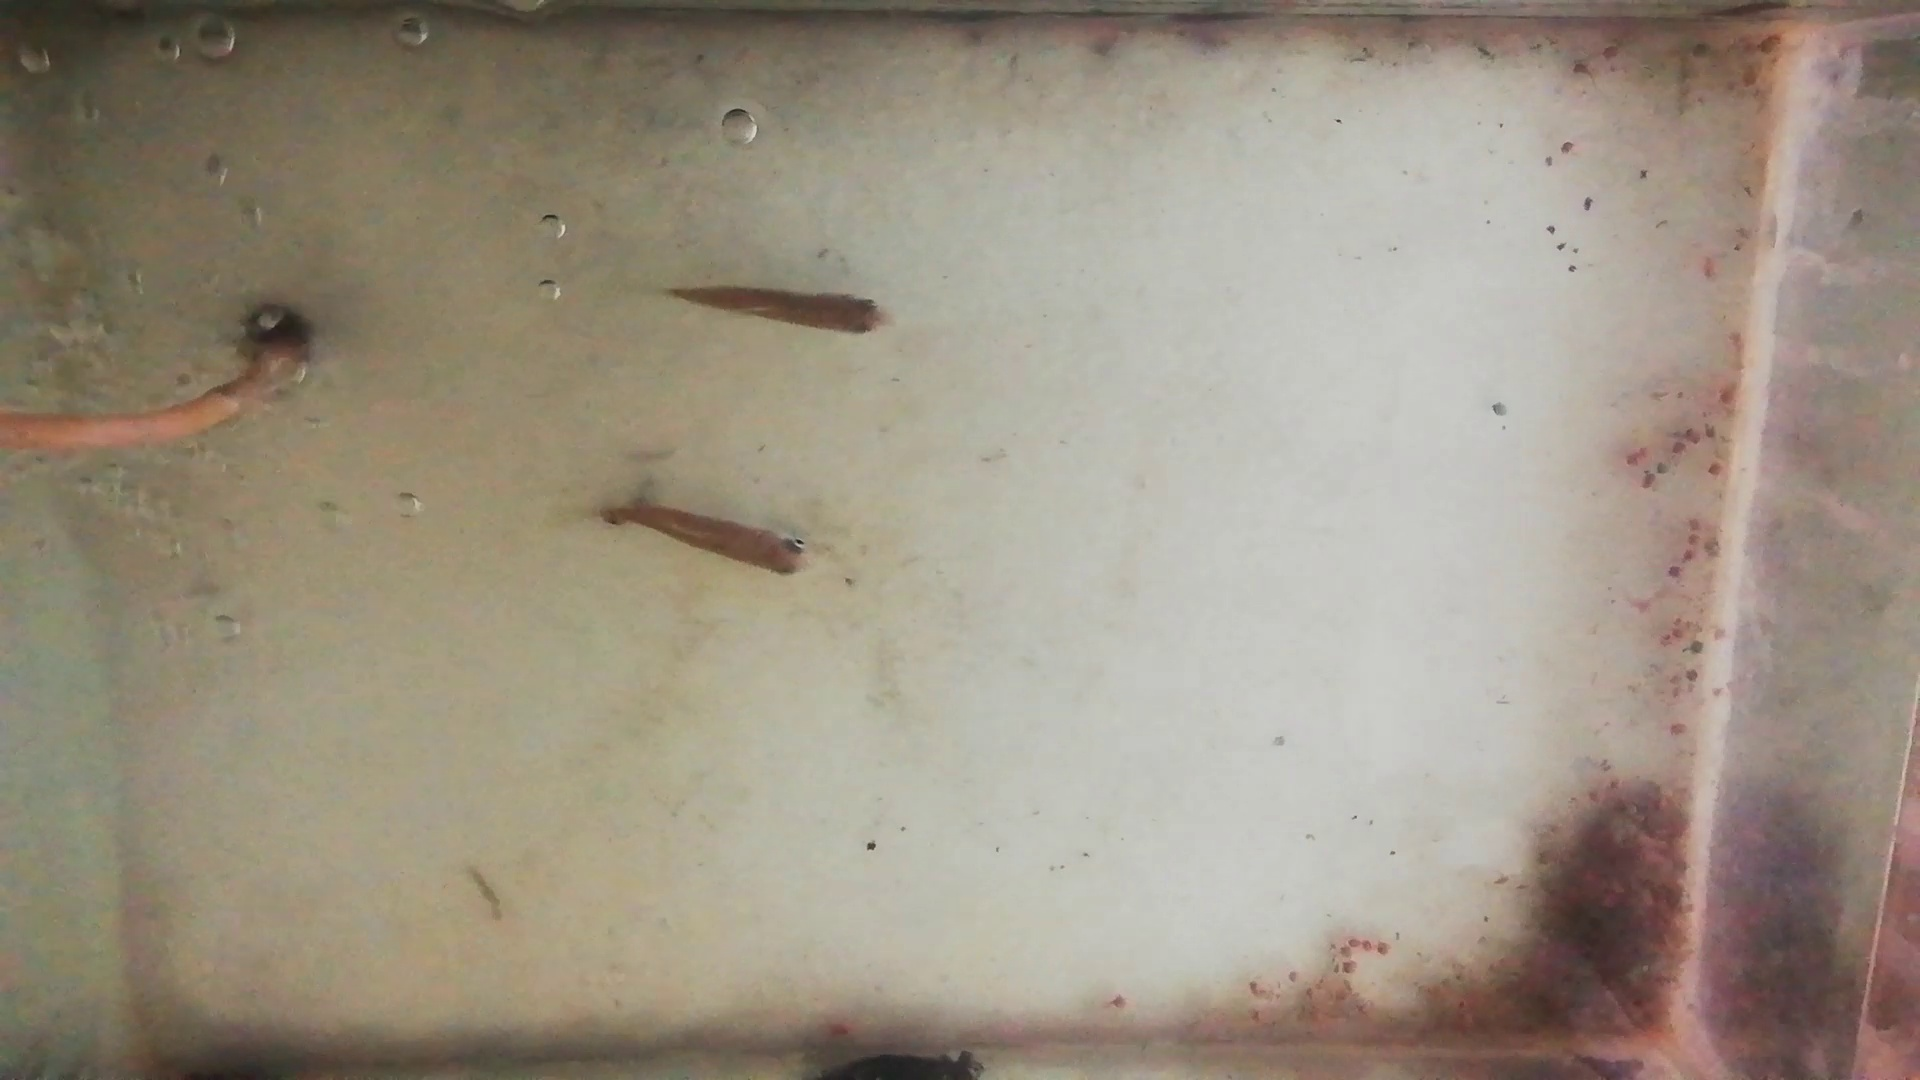fish: (608, 506, 816, 580), (666, 287, 893, 335)
